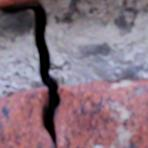brick: (0, 0, 42, 8)
broken_brick: (0, 80, 147, 147)
crack: (0, 1, 60, 146)
